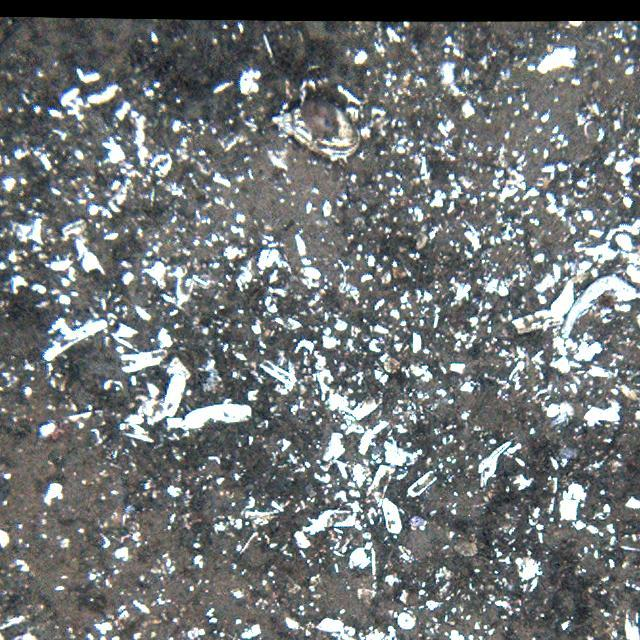whelk: (271, 103, 361, 164)
